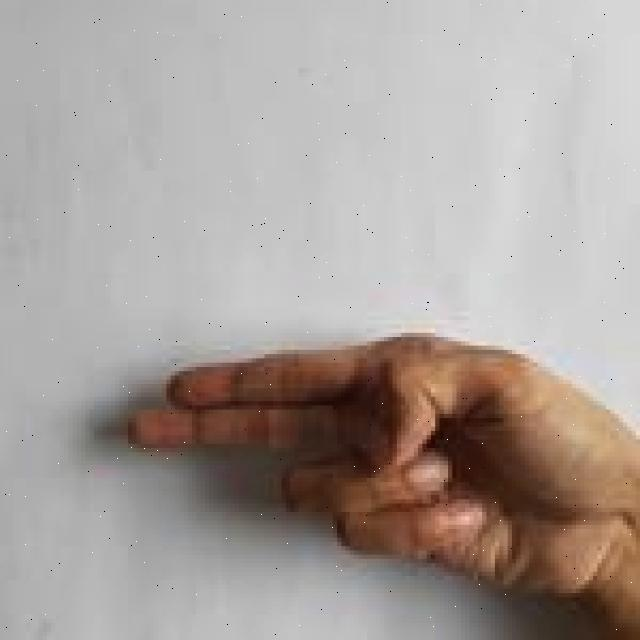H: (123, 325, 640, 640), (119, 329, 640, 639)
